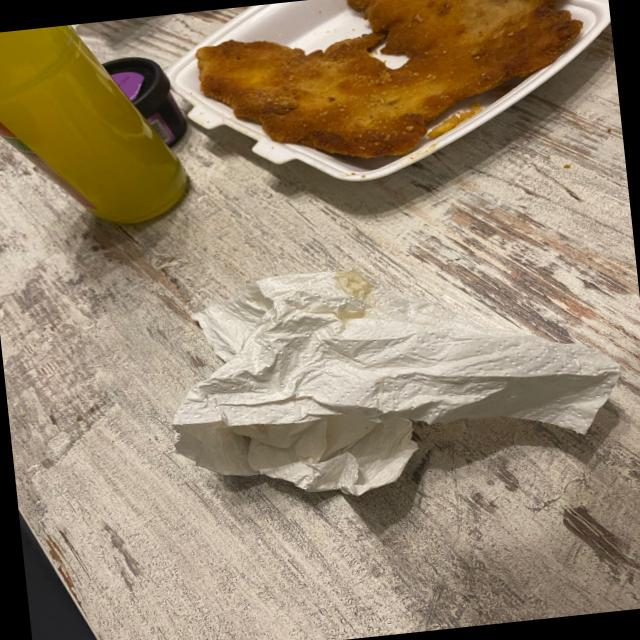organic waste: (148, 236, 630, 520)
